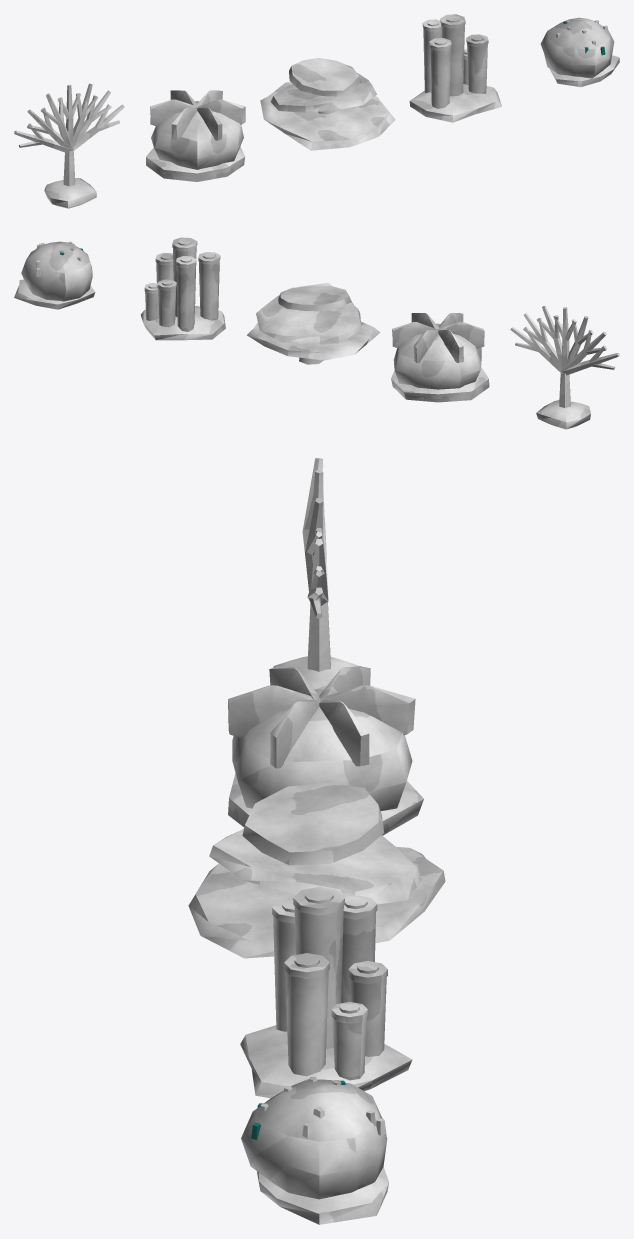
3 views of the same model, one above another, from view 1: azimuth 30°, elevation 25°; view 2: azimuth 150°, elevation 25°; view 3: azimuth 270°, elevation 25° (orthographic). The views are drawn at different scales.
Parts seen in each view (by area): view 1: DL006_CoralFamily_coral_orange, DL006_CoralFamily_coral_violet, DL006_CoralFamily_shadow_blue, DL006_CoralFamily_coral_pink, DL006_CoralFamily_coral_mint, DL006_CoralFamily_coral_turq; view 2: DL006_CoralFamily_coral_orange, DL006_CoralFamily_coral_pink, DL006_CoralFamily_shadow_blue, DL006_CoralFamily_coral_violet, DL006_CoralFamily_coral_mint, DL006_CoralFamily_coral_turq; view 3: DL006_CoralFamily_coral_orange, DL006_CoralFamily_coral_violet, DL006_CoralFamily_coral_pink, DL006_CoralFamily_shadow_blue, DL006_CoralFamily_coral_mint, DL006_CoralFamily_coral_turq.
Boxes of the visible parts, x1,y1,x2,y2 form: DL006_CoralFamily_coral_orange: (19,15,614,147); DL006_CoralFamily_coral_violet: (260,58,395,150); DL006_CoralFamily_shadow_blue: (44,15,619,208); DL006_CoralFamily_coral_pink: (14,14,608,186); DL006_CoralFamily_coral_mint: (151,101,243,169); DL006_CoralFamily_coral_turq: (150,90,245,140); DL006_CoralFamily_coral_orange: (21,238,615,369); DL006_CoralFamily_coral_pink: (35,237,619,407); DL006_CoralFamily_shadow_blue: (14,238,590,429); DL006_CoralFamily_coral_violet: (247,285,380,360); DL006_CoralFamily_coral_mint: (393,323,481,389); DL006_CoralFamily_coral_turq: (392,313,484,363); DL006_CoralFamily_coral_orange: (241,495,387,1199); DL006_CoralFamily_coral_violet: (188,783,445,958); DL006_CoralFamily_coral_pink: (209,458,421,1138); DL006_CoralFamily_shadow_blue: (228,656,423,1224); DL006_CoralFamily_coral_mint: (232,689,412,810); DL006_CoralFamily_coral_turq: (228,666,415,768).
Size of the model in its own units: 11.36 by 2.11 by 2.11.
Materials: 7 (6 with a texture image).
